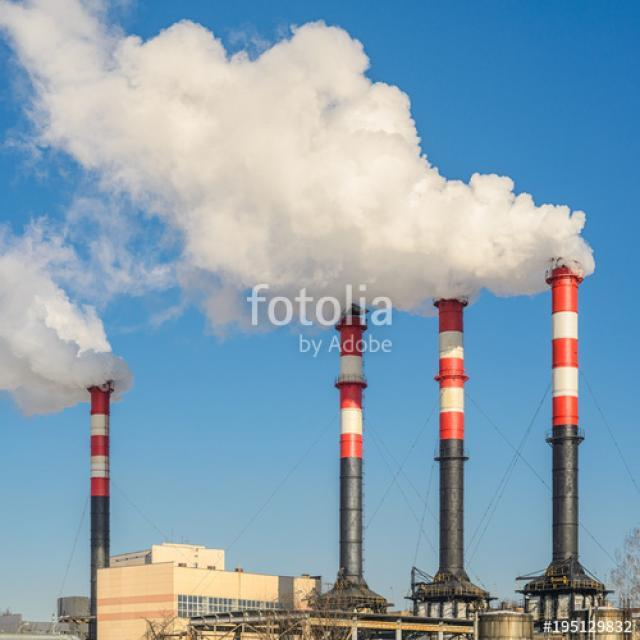Smoke: (0, 0, 596, 417)
